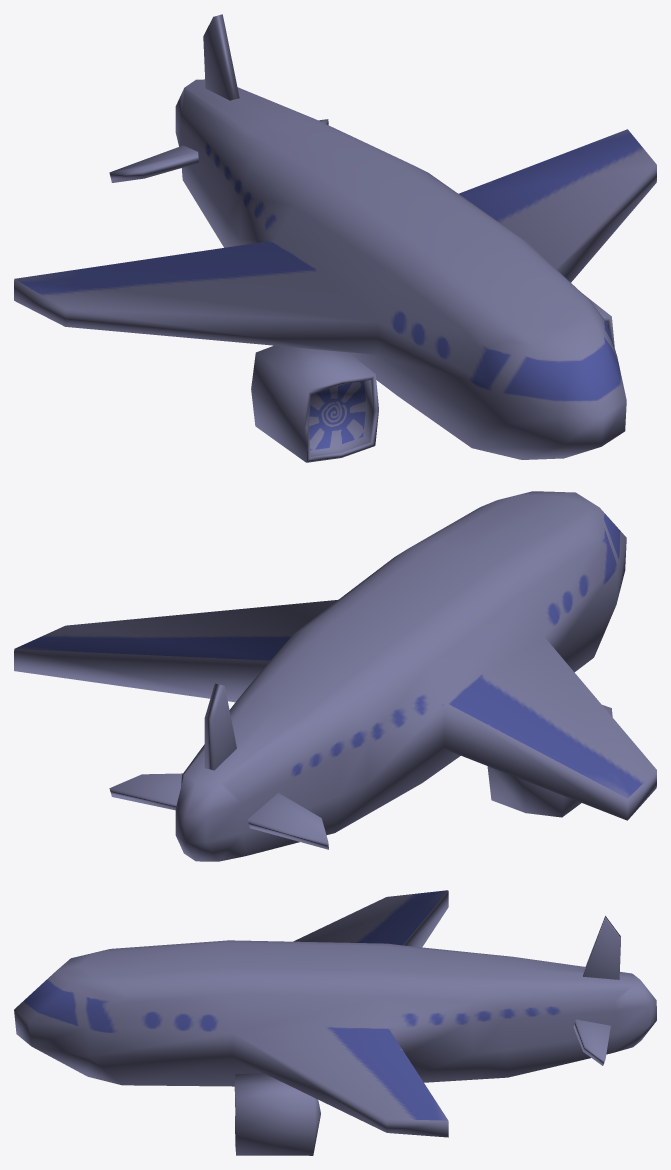
The model's file is Aviao.fbx.
3 views of the same model, one above another, from view 1: azimuth 30°, elevation 25°; view 2: azimuth 150°, elevation 25°; view 3: azimuth 270°, elevation 25° (orthographic). The views are drawn at different scales.
Parts seen in each view (by area): view 1: Cube, Cube.001, Cube.002, Cube.003; view 2: Cube, Cube.003, Cube.001, Cube.002; view 3: Cube, Cube.001, Cube.002, Cube.003.
Part boxes in pixels (x1=…): Cube: x1=14, y1=79, x2=656, y2=459; Cube.001: x1=251, y1=293, x2=614, y2=462; Cube.002: x1=203, y1=14, x2=239, y2=100; Cube.003: x1=109, y1=119, x2=328, y2=182; Cube: x1=14, y1=491, x2=656, y2=861; Cube.003: x1=109, y1=773, x2=328, y2=849; Cube.001: x1=487, y1=705, x2=612, y2=817; Cube.002: x1=204, y1=683, x2=236, y2=770; Cube: x1=14, y1=890, x2=656, y2=1137; Cube.001: x1=234, y1=1073, x2=320, y2=1155; Cube.002: x1=583, y1=916, x2=620, y2=979; Cube.003: x1=573, y1=1019, x2=610, y2=1065.
Size of the model in its own units: 6591 by 2444 by 7772.
Materials: 1 (1 with a texture image).
